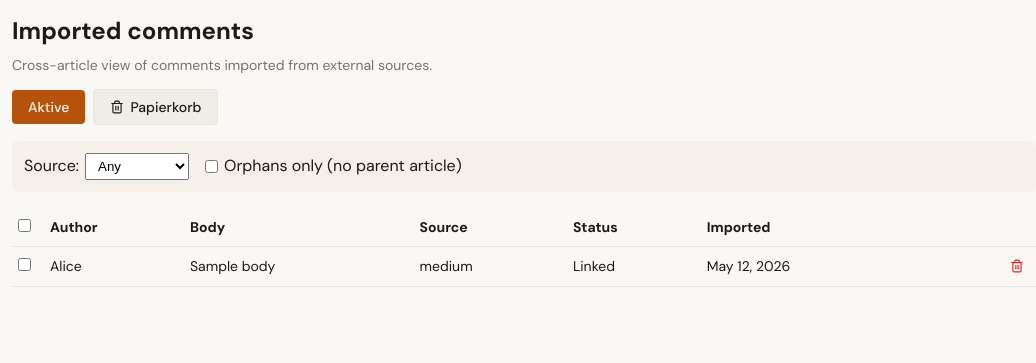
Scenario: CommentsAdminSection bulk-delete wiring › filter change clears the selection
The image size is (1036, 363).
Click the checkbox with test id "comments-admin-select-row-1".
click(24, 265)  # box [18,258,31,271]
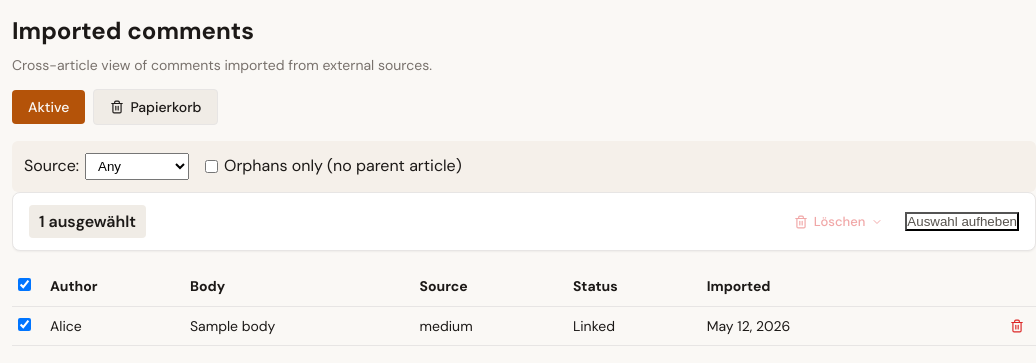
Expected: the element with test id "comment-bulk-action-bar" is shown, [12,192,1035,251]
Click the checkbox with test id "comments-admin-filter-orphans".
click(212, 166)  # box [205,160,218,173]
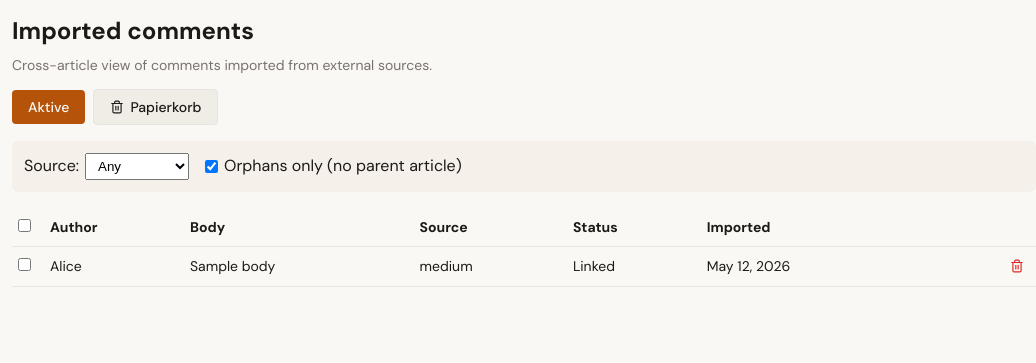
Expected: the element with test id "comment-bulk-action-bar" is gone
